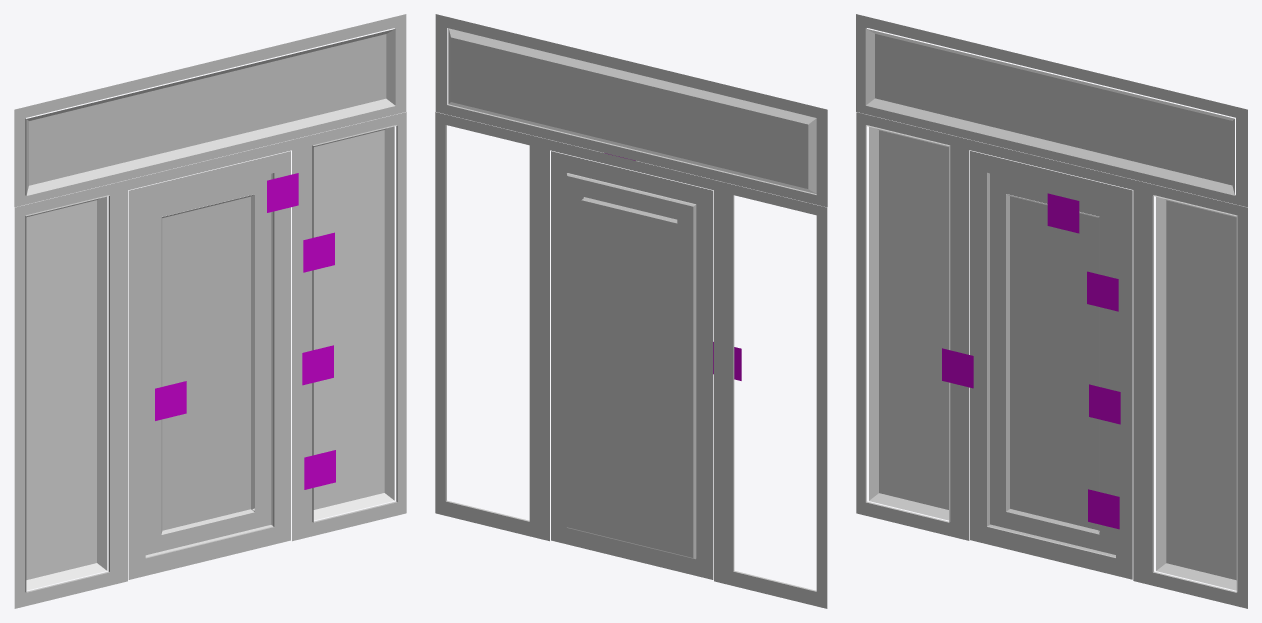
File: Single-leaf.glb
3 views of the same model, side by side, from view 1: azimuth 30°, elevation 25°; view 2: azimuth 150°, elevation 25°; view 3: azimuth 330°, elevation 25° (orthographic).
Visible parts, largest first — view 1: MainDoor_frame, Door-Leaves(L+R), Skylight, Hinge2, Closer, Hinge1, Knob, Hinge3; view 2: MainDoor_frame, Skylight; view 3: MainDoor_frame, Door-Leaves(L+R), Skylight, Closer, Hinge1, Hinge3, Knob, Hinge2.
Part boxes in pixels (x1,y1,x2,y2): MainDoor_frame: (14,112,406,608); Door-Leaves(L+R): (26,126,394,590); Skylight: (14,14,406,207); Hinge2: (302,345,333,385); Closer: (267,173,298,212); Hinge1: (303,232,334,272); Knob: (155,381,186,420); Hinge3: (304,450,335,489); MainDoor_frame: (435,112,827,608); Skylight: (435,14,827,207); MainDoor_frame: (856,112,1247,608); Door-Leaves(L+R): (869,127,1236,590); Skylight: (856,14,1247,207); Closer: (1047,193,1079,233); Hinge1: (1087,271,1118,311); Hinge3: (1088,489,1119,529); Knob: (942,348,973,388); Hinge2: (1089,384,1120,424).
Bounding box in the file's own units: 0.7454 × 0.9074 × 0.1185.
